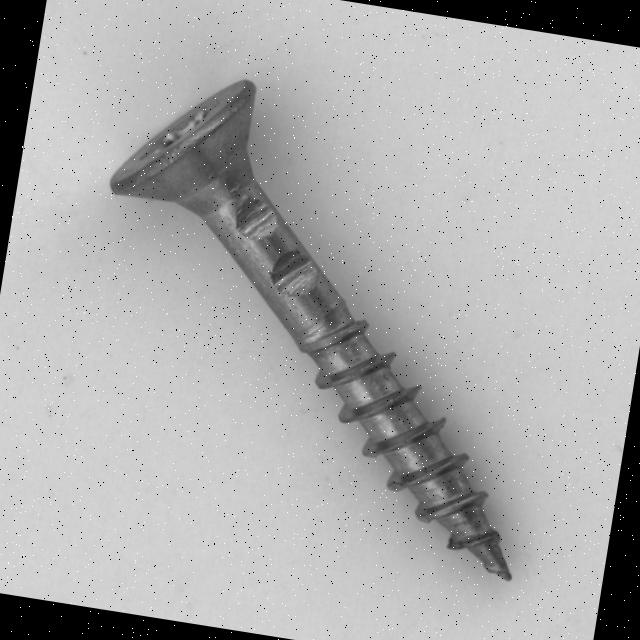scratch_neck: (266, 247, 323, 299), (230, 194, 280, 242)
